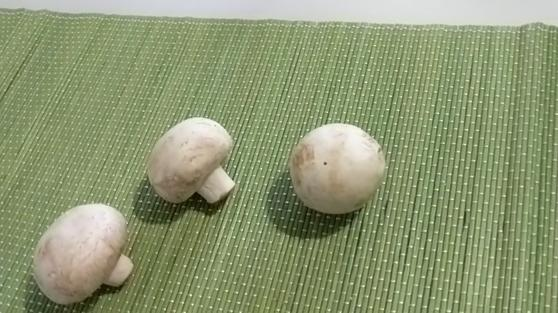champignon: (32, 203, 135, 304), (291, 122, 387, 215), (146, 117, 236, 204)
